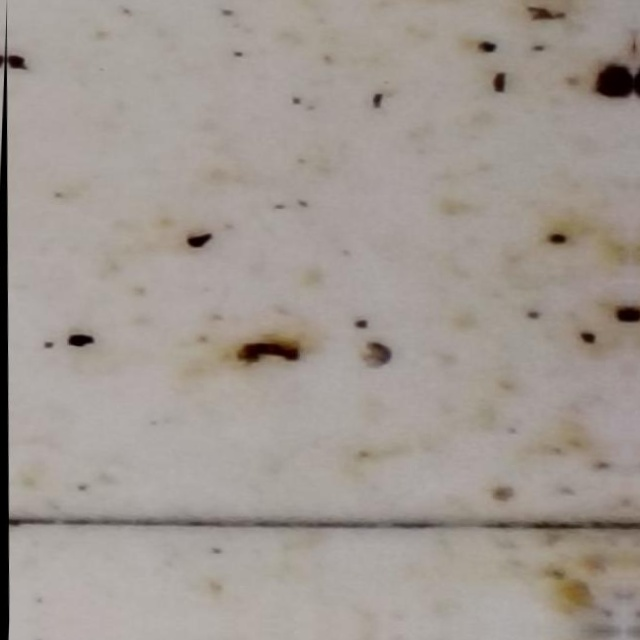varroa: (588, 65, 633, 99), (624, 34, 633, 65)
